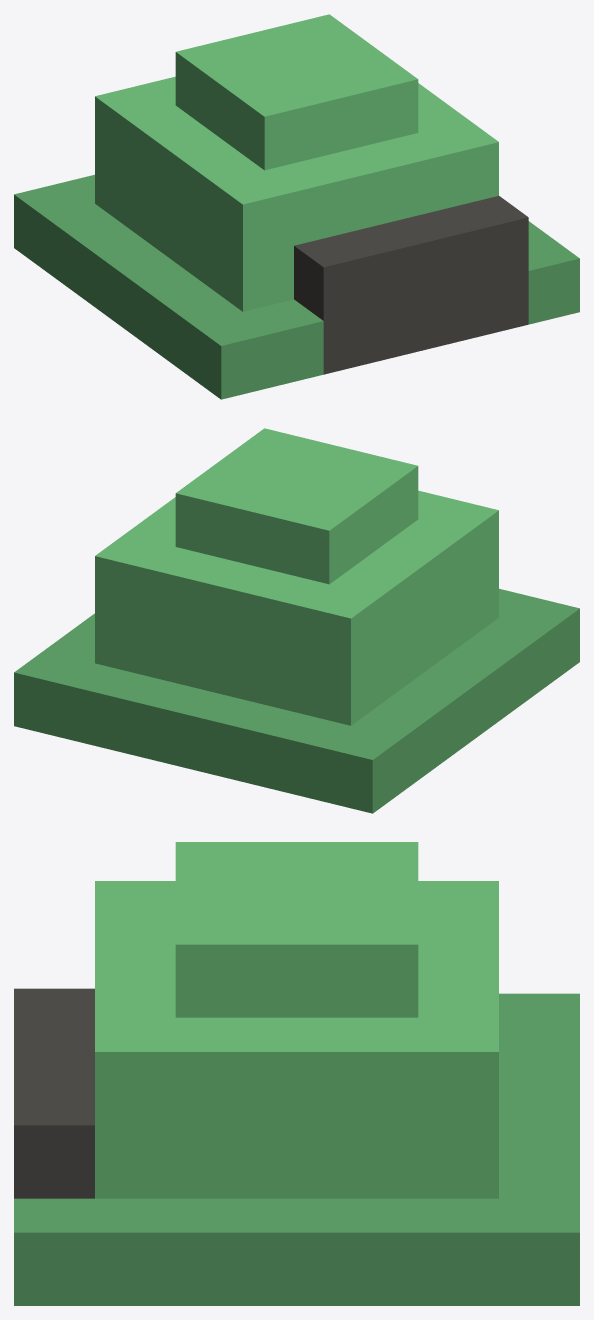
File: legendario_casco_goblin_01.glb
3 renders of one model, top to bottom at view 1: azimuth 30°, elevation 25°; view 2: azimuth 150°, elevation 25°; view 3: azimuth 270°, elevation 25°, orthographic. The views are drawn at different scales.
Parts seen in each view (by area): view 1: legendario_casco_goblin; view 2: legendario_casco_goblin; view 3: legendario_casco_goblin.
Part boxes in pixels (x1,y1,x2,y2): legendario_casco_goblin: (14,14,579,399); legendario_casco_goblin: (14,428,579,813); legendario_casco_goblin: (14,842,579,1305).
Bounding box in the file's own units: 0.5833 × 0.3333 × 0.5833.
